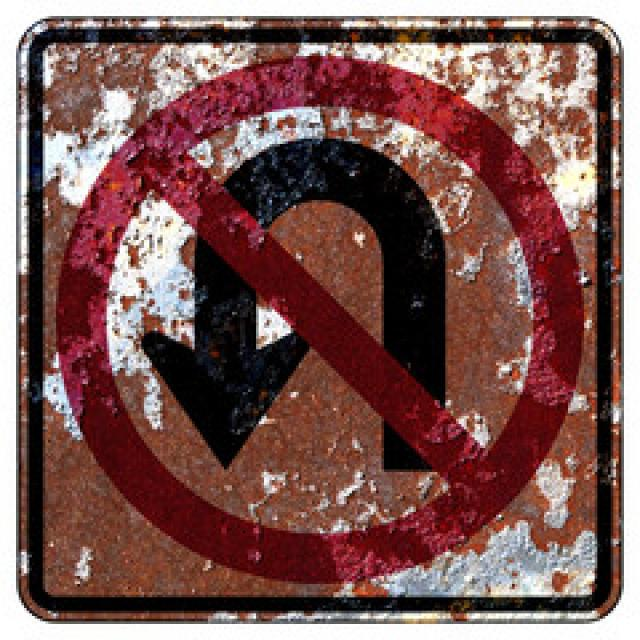no u turn: (48, 41, 596, 595)
